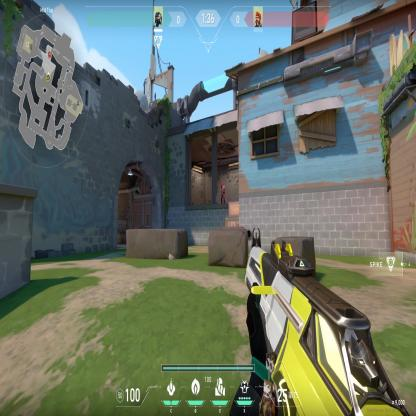enemy: (220, 180, 226, 204)
